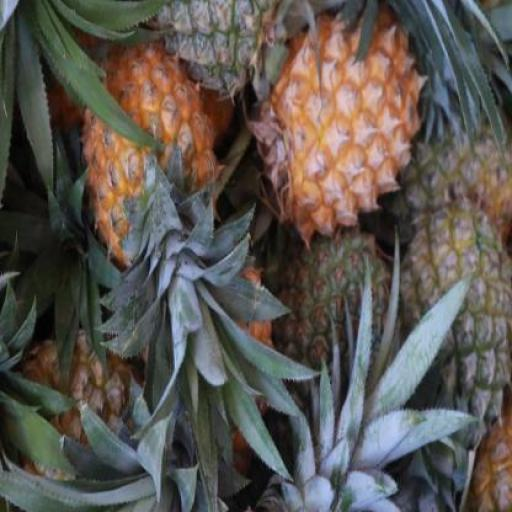------------------------------: (400, 201, 511, 443)
Pineapple - v8 v1: (259, 6, 424, 235), (82, 37, 221, 256)
